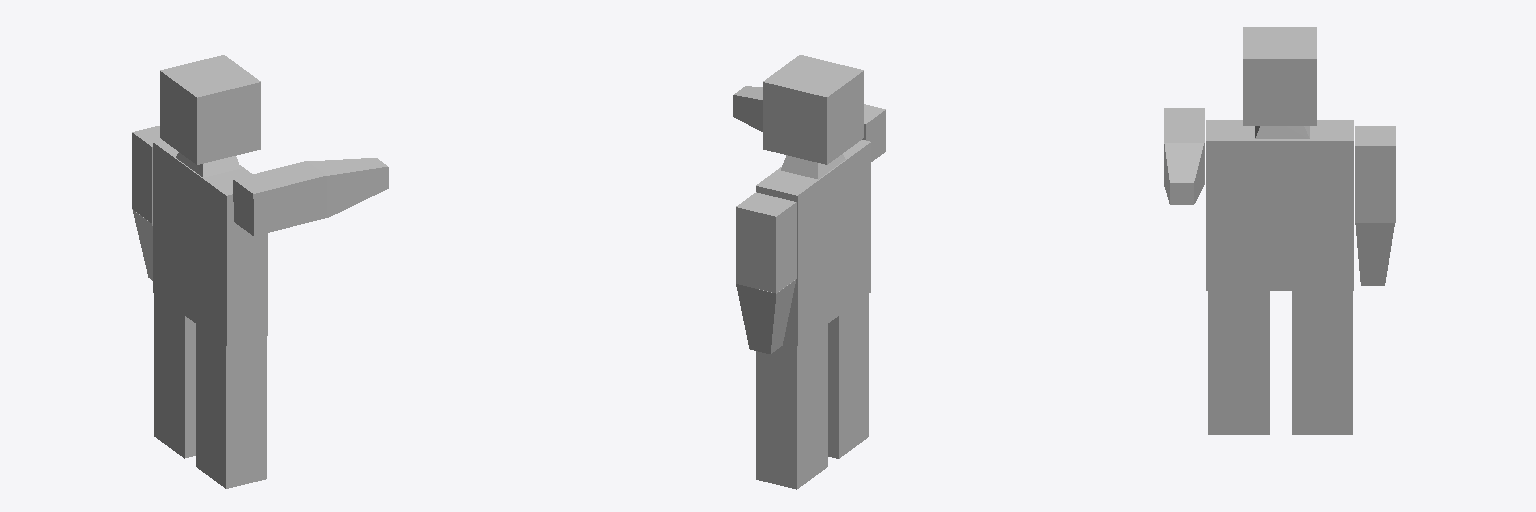
Rendered from Player.obj.
3 renders of one model, left to right at view 1: azimuth 30°, elevation 25°; view 2: azimuth 150°, elevation 25°; view 3: azimuth 270°, elevation 25°, orthographic.
Visible parts, largest first — view 1: Cube.001, Cube.007, Cube, Cube.008, Cube.004, Cube.003, Cube.006, Cube.002, Cube.005; view 2: Cube.001, Cube.008, Cube, Cube.007, Cube.006, Cube.005, Cube.003, Cube.004, Cube.002; view 3: Cube.001, Cube.007, Cube.008, Cube, Cube.006, Cube.003, Cube.005, Cube.004, Cube.002.
Boxes of the visible parts, x1=… form: Cube.001: x1=153, y1=140, x2=267, y2=345; Cube.007: x1=196, y1=324, x2=266, y2=488; Cube: x1=160, y1=55, x2=260, y2=164; Cube.008: x1=154, y1=293, x2=195, y2=458; Cube.004: x1=233, y1=161, x2=326, y2=235; Cube.003: x1=308, y1=158, x2=388, y2=217; Cube.006: x1=132, y1=126, x2=161, y2=223; Cube.002: x1=176, y1=152, x2=240, y2=177; Cube.005: x1=132, y1=209, x2=152, y2=280; Cube.001: x1=756, y1=140, x2=870, y2=345; Cube.008: x1=756, y1=324, x2=827, y2=489; Cube: x1=763, y1=55, x2=863, y2=164; Cube.007: x1=828, y1=294, x2=868, y2=458; Cube.006: x1=736, y1=192, x2=796, y2=293; Cube.005: x1=736, y1=280, x2=795, y2=353; Cube.003: x1=733, y1=86, x2=762, y2=131; Cube.004: x1=862, y1=104, x2=885, y2=161; Cube.002: x1=781, y1=154, x2=845, y2=179; Cube.001: x1=1206, y1=120, x2=1353, y2=290; Cube.007: x1=1208, y1=291, x2=1269, y2=434; Cube.008: x1=1292, y1=291, x2=1352, y2=434; Cube: x1=1243, y1=27, x2=1316, y2=125; Cube.006: x1=1355, y1=126, x2=1395, y2=222; Cube.003: x1=1164, y1=143, x2=1203, y2=204; Cube.005: x1=1355, y1=223, x2=1394, y2=285; Cube.004: x1=1164, y1=108, x2=1204, y2=184; Cube.002: x1=1255, y1=126, x2=1309, y2=138.
Bounding box in the file's own units: 4.82 × 11.32 × 6.21.